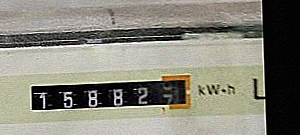1: (38, 89, 47, 108)
2: (137, 84, 149, 104)
5: (60, 88, 74, 108)
7: (161, 90, 173, 102)
8: (111, 85, 124, 106), (87, 87, 99, 107)
screen: (25, 71, 196, 117)
